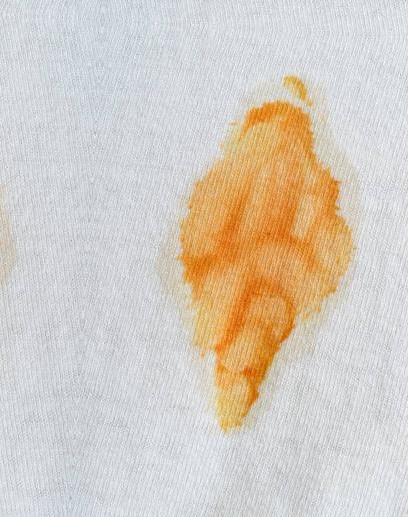stain: (175, 73, 361, 441)
